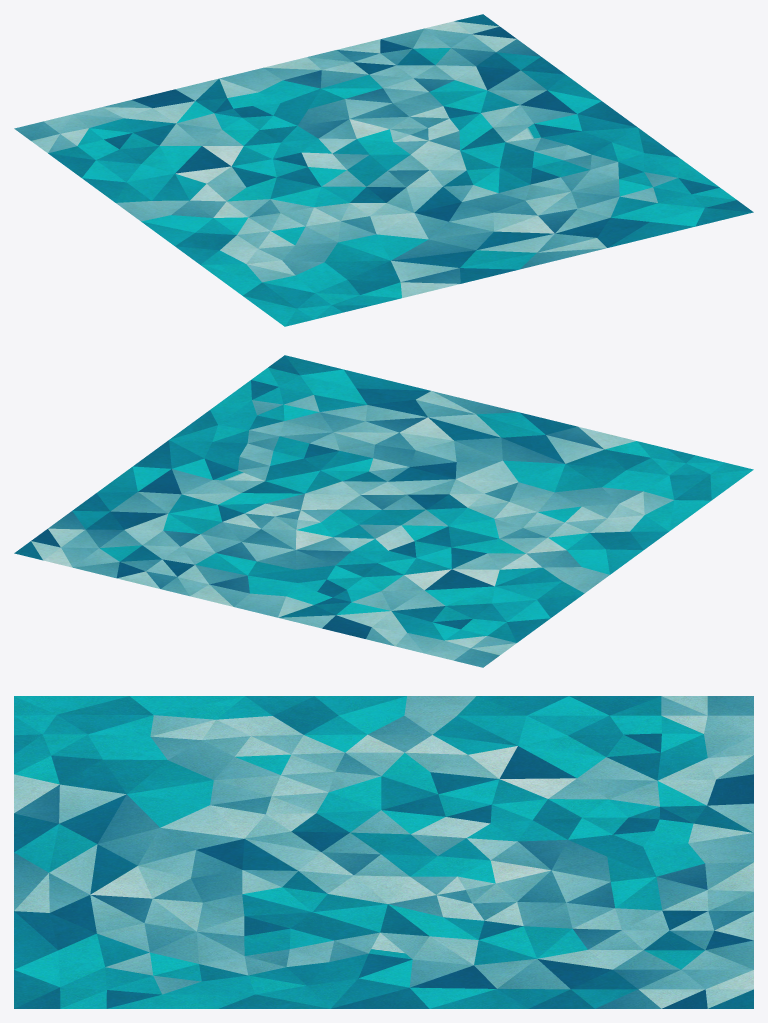
The model's file is Water-part-01.fbx.
The picture shows the model from 3 angles, top to bottom: view 1: azimuth 30°, elevation 25°; view 2: azimuth 150°, elevation 25°; view 3: azimuth 270°, elevation 25°; orthographic projection. The views are drawn at different scales.
Parts seen in each view (by area): view 1: Water-part-01; view 2: Water-part-01; view 3: Water-part-01.
Part boxes in pixels (x1,y1,x2,y2): Water-part-01: (14, 14, 753, 326); Water-part-01: (14, 355, 753, 667); Water-part-01: (14, 696, 753, 1008).
Bounding box in the file's own units: 12 × 0 × 12.
